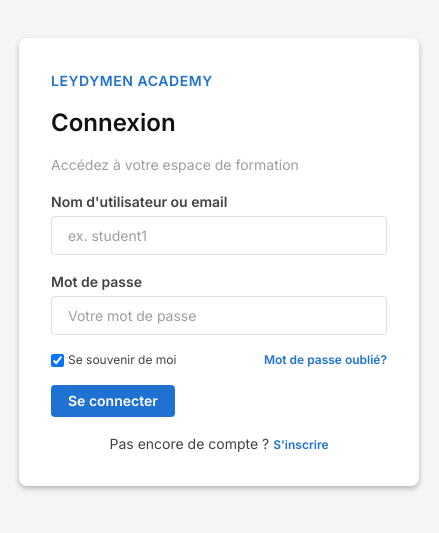
it: LoginComponent › should display the server error message on failure
Type "admin" into the field labelled "Nom d'utilisateur ou email".
click(219, 236); type("admin")  # box [51,216,387,255]
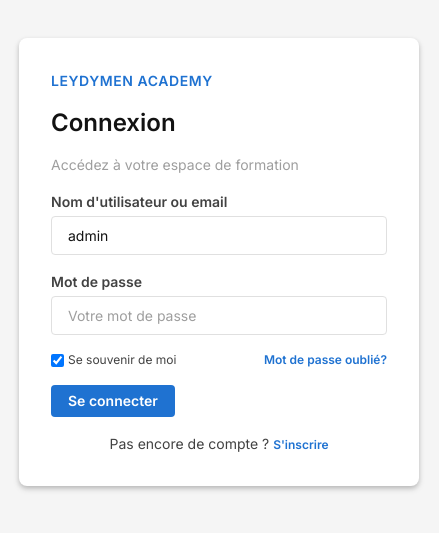
Type "admin123" into the password field labelled "Mot de passe".
click(219, 316); type("admin123")  # box [51,296,387,335]
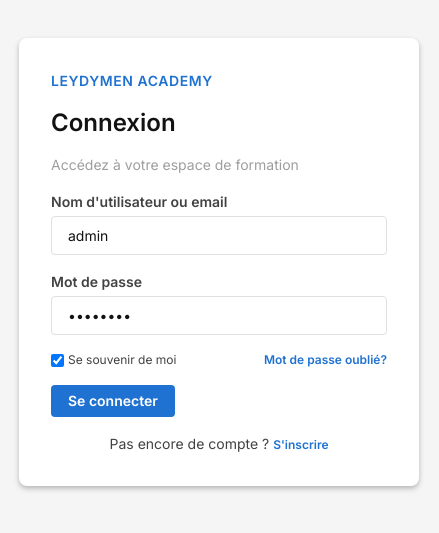
Click the button "Se connecter".
click(113, 401)  # box [51,385,175,417]
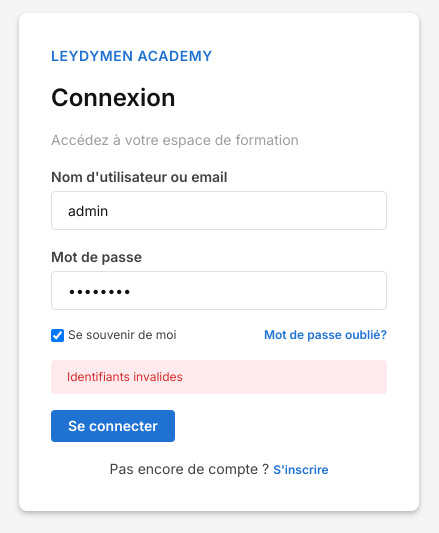
Now the message with class "auth-card__error" reads "Identifiants invalides", box [67,369,183,384]
